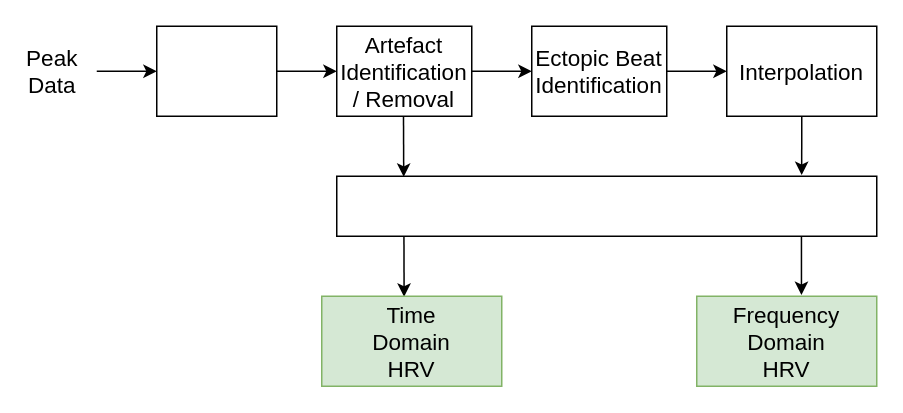
Some shapes in this 903 by 413 pixel diagram are drawn without their labels. The centre of each missing label's shape, as x and y in pixels:
"Inter-Beat-Intervals" belongs at point (216, 70).
"Validation" belongs at point (606, 205).
